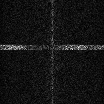wifi: (1, 45, 104, 50)
